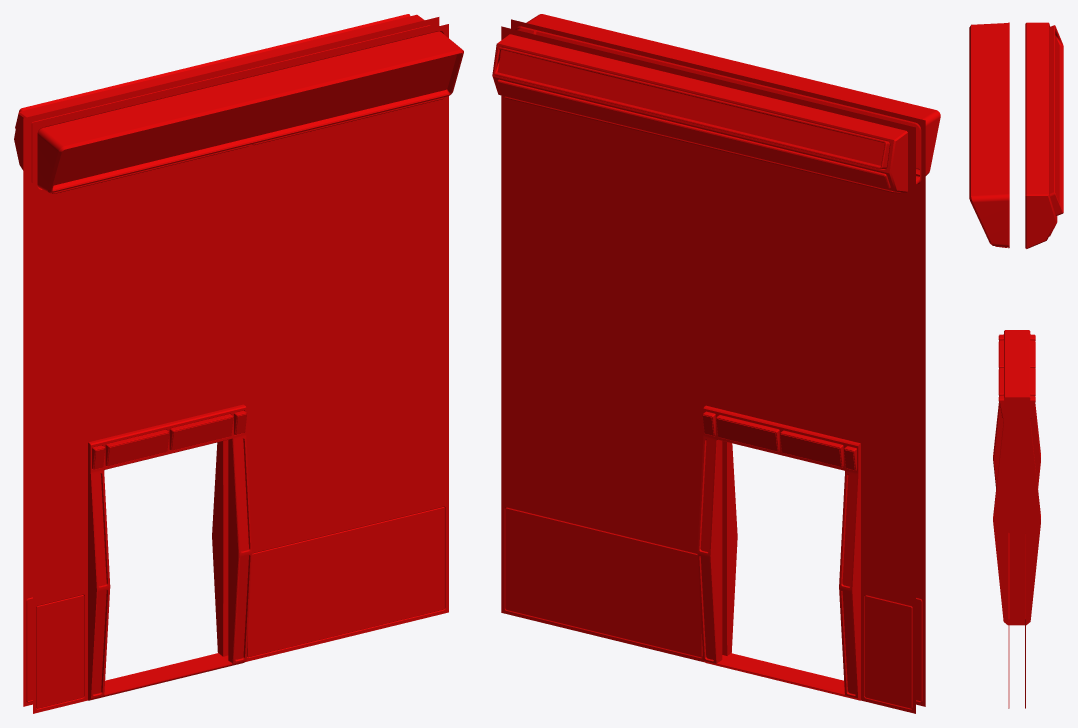
File: Wall_13.fbx
3 views of the same model, side by side, from view 1: azimuth 30°, elevation 25°; view 2: azimuth 150°, elevation 25°; view 3: azimuth 270°, elevation 25° (orthographic). The views are drawn at different scales.
Parts seen in each view (by area): view 1: polySurface2007; view 2: polySurface2007; view 3: polySurface2007.
Boxes of the visible parts, bbox=[...] form: polySurface2007: bbox=[14, 14, 463, 713]; polySurface2007: bbox=[492, 14, 940, 713]; polySurface2007: bbox=[969, 22, 1063, 708].
Size of the model in its own units: 556 by 751 by 123.
